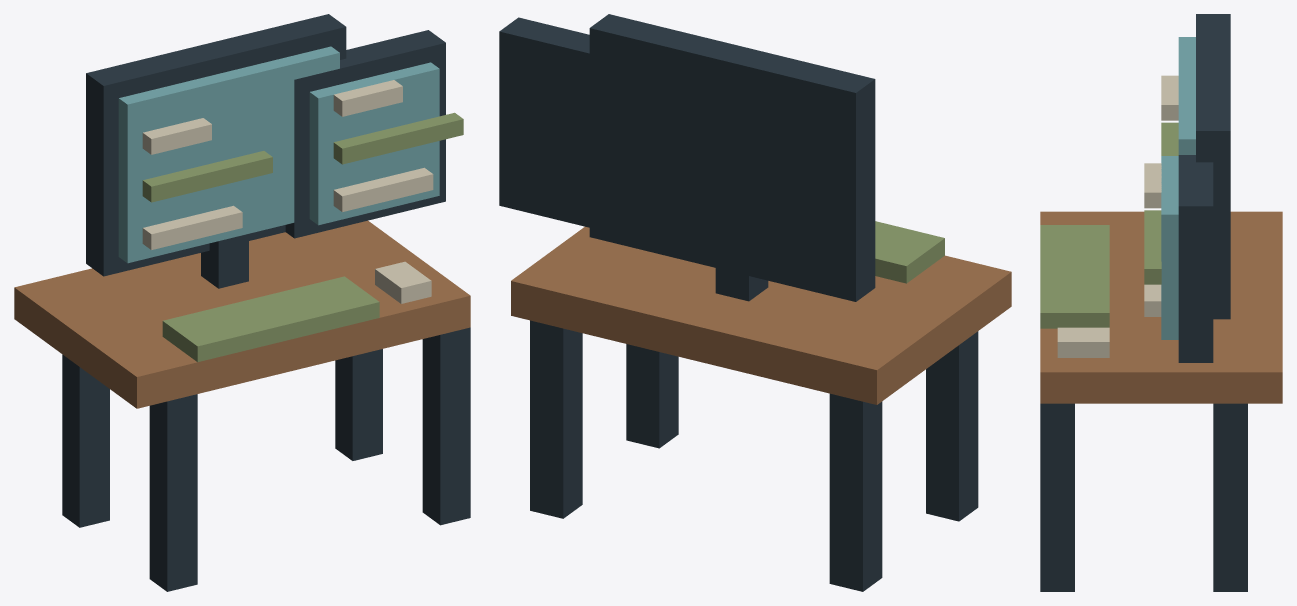
File: biotech-10.glb
3 views of the same model, side by side, from view 1: azimuth 30°, elevation 25°; view 2: azimuth 150°, elevation 25°; view 3: azimuth 270°, elevation 25° (orthographic). The views are drawn at different scales.
Parts seen in each view (by area): view 1: Lab terminal; view 2: Lab terminal; view 3: Lab terminal.
Boxes of the visible parts, <box> form: Lab terminal: <box>14,14,470,591</box>; Lab terminal: <box>499,14,1011,591</box>; Lab terminal: <box>1040,14,1282,591</box>.
Bounding box in the file's own units: 2 × 2.24 × 1.12.
